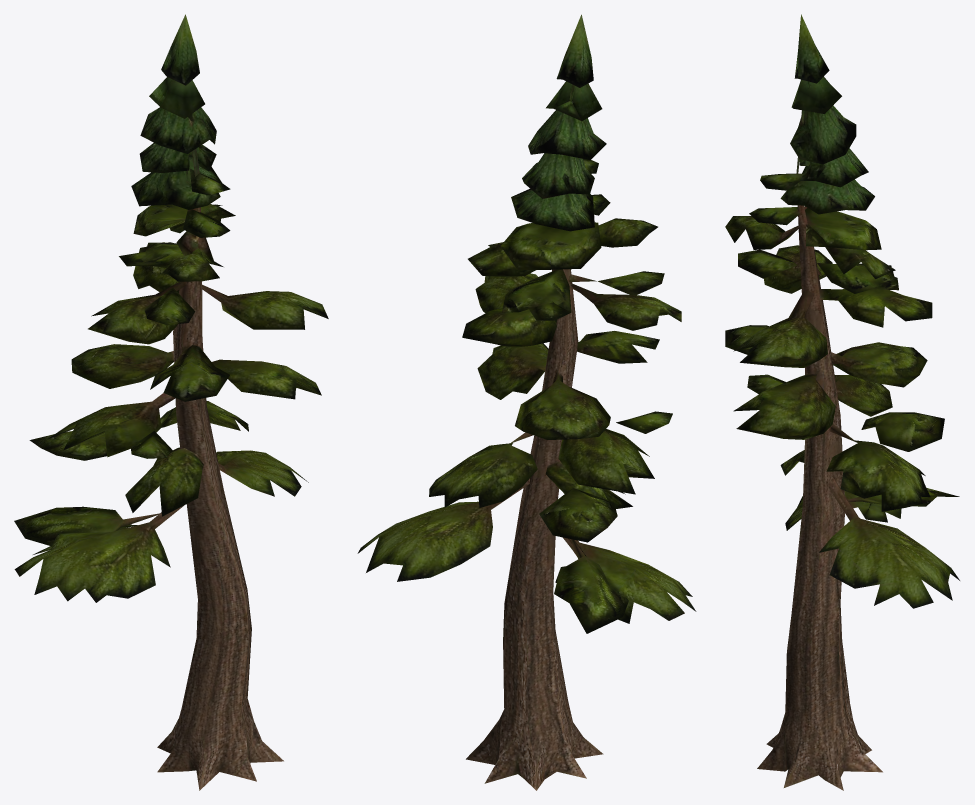
File: tall+pine+tree+3d+model.glb
3 renders of one model, left to right at view 1: azimuth 30°, elevation 25°; view 2: azimuth 150°, elevation 25°; view 3: azimuth 270°, elevation 25°, orthographic. The views are drawn at different scales.
Visible parts, largest first — view 1: tripo_node_5fbde318-db3f-4181-ab02-b91f1f2c4f1e; view 2: tripo_node_5fbde318-db3f-4181-ab02-b91f1f2c4f1e; view 3: tripo_node_5fbde318-db3f-4181-ab02-b91f1f2c4f1e.
Part boxes in pixels (x1=…): tripo_node_5fbde318-db3f-4181-ab02-b91f1f2c4f1e: x1=14, y1=14, x2=328, y2=790; tripo_node_5fbde318-db3f-4181-ab02-b91f1f2c4f1e: x1=357, y1=14, x2=696, y2=790; tripo_node_5fbde318-db3f-4181-ab02-b91f1f2c4f1e: x1=725, y1=14, x2=959, y2=790.
Size of the model in its own units: 0.4121 by 0.998 by 0.291.
Materials: 1 (1 with a texture image).
